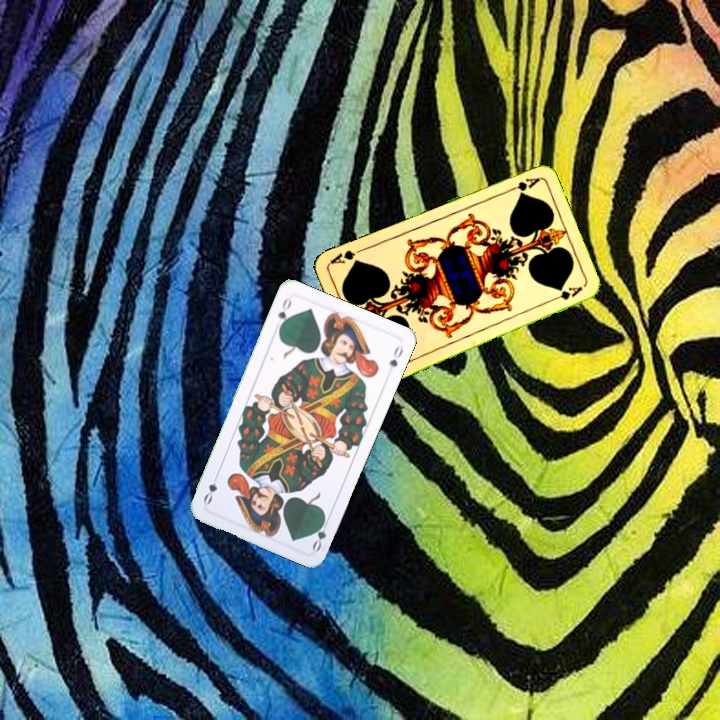GA: (502, 174, 542, 195)
GO: (308, 513, 332, 554), (274, 294, 294, 333)
